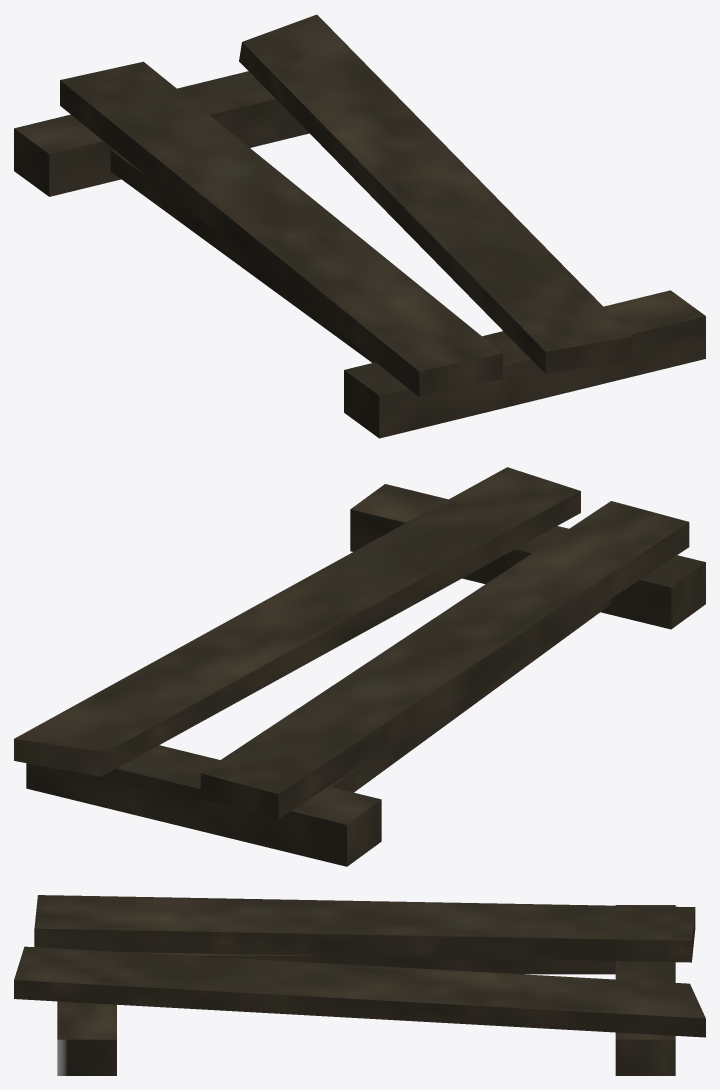
The model's file is wooden_catwalk_wide.obj.
3 views of the same model, one above another, from view 1: azimuth 30°, elevation 25°; view 2: azimuth 150°, elevation 25°; view 3: azimuth 270°, elevation 25° (orthographic). The views are drawn at different scales.
Visible parts, largest first — view 1: cube; view 2: cube; view 3: cube.
Boxes of the visible parts, <box> form: cube: <box>14,14,705,438</box>; cube: <box>14,467,705,866</box>; cube: <box>14,895,705,1075</box>.
Bounding box in the file's own units: 1 × 0.2 × 2.17.
